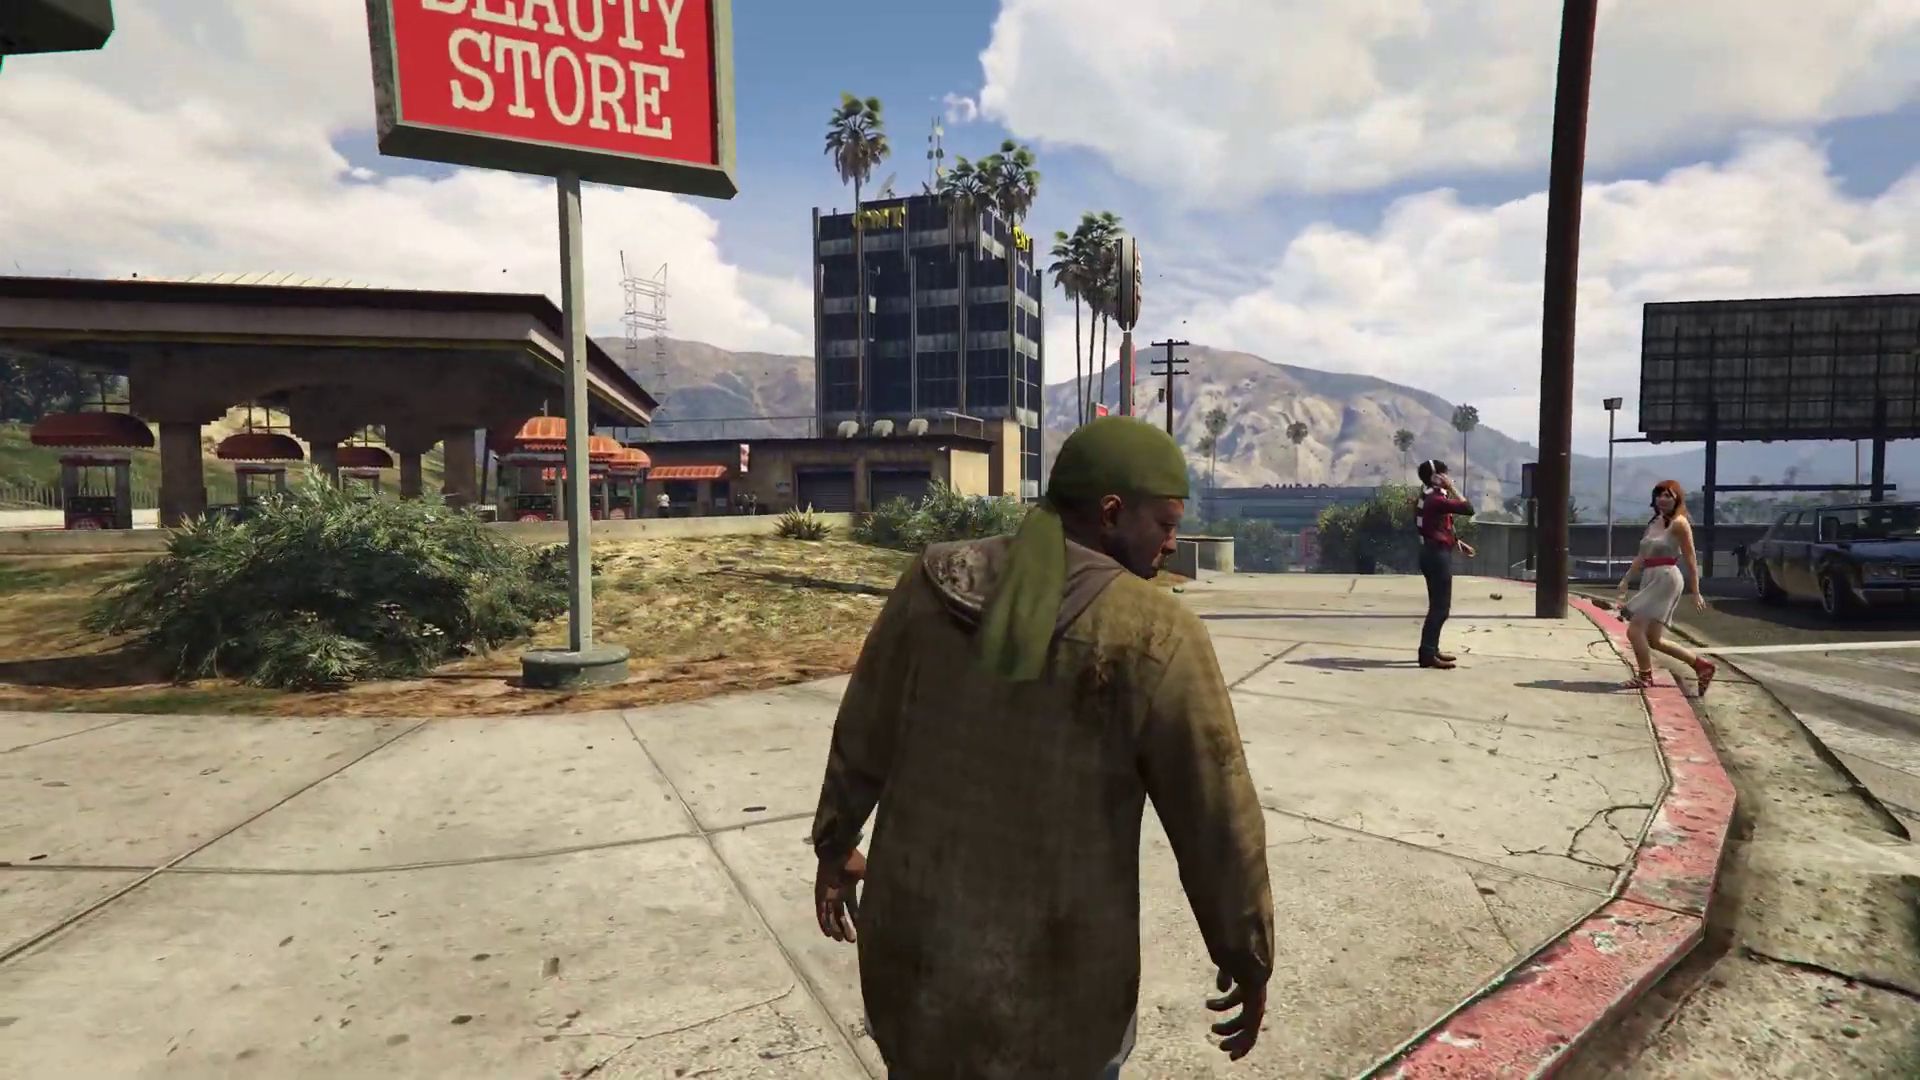car: (1742, 503, 1920, 620)
person: (804, 417, 1279, 1080), (1615, 480, 1714, 699), (1415, 458, 1476, 669)
